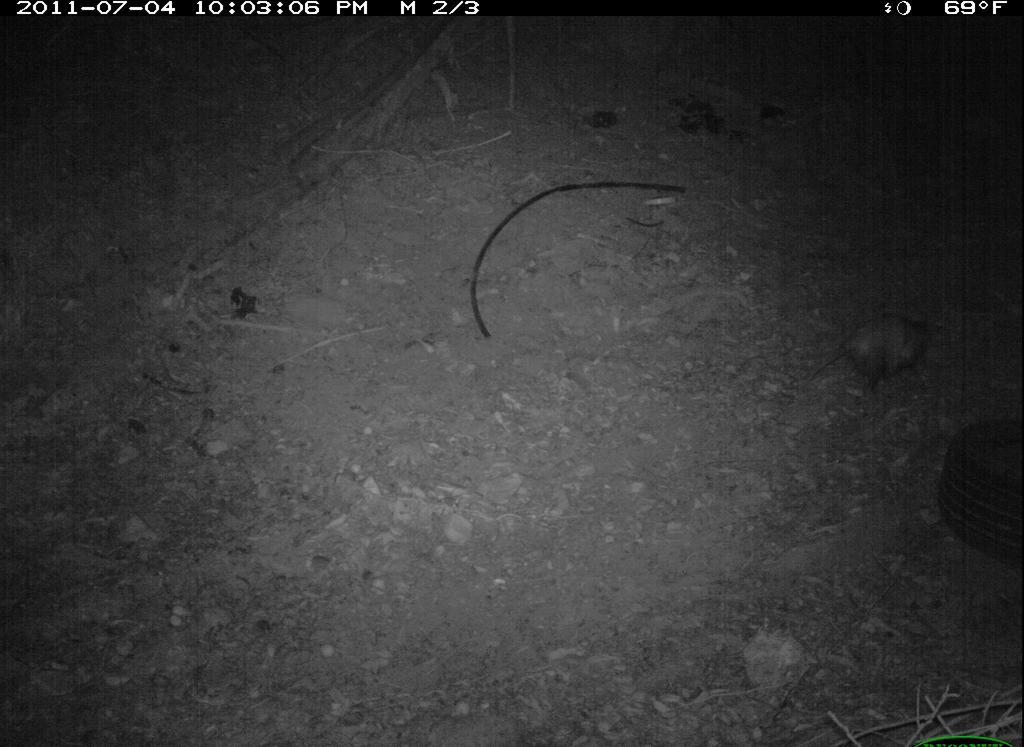opossum: (790, 301, 945, 409)
